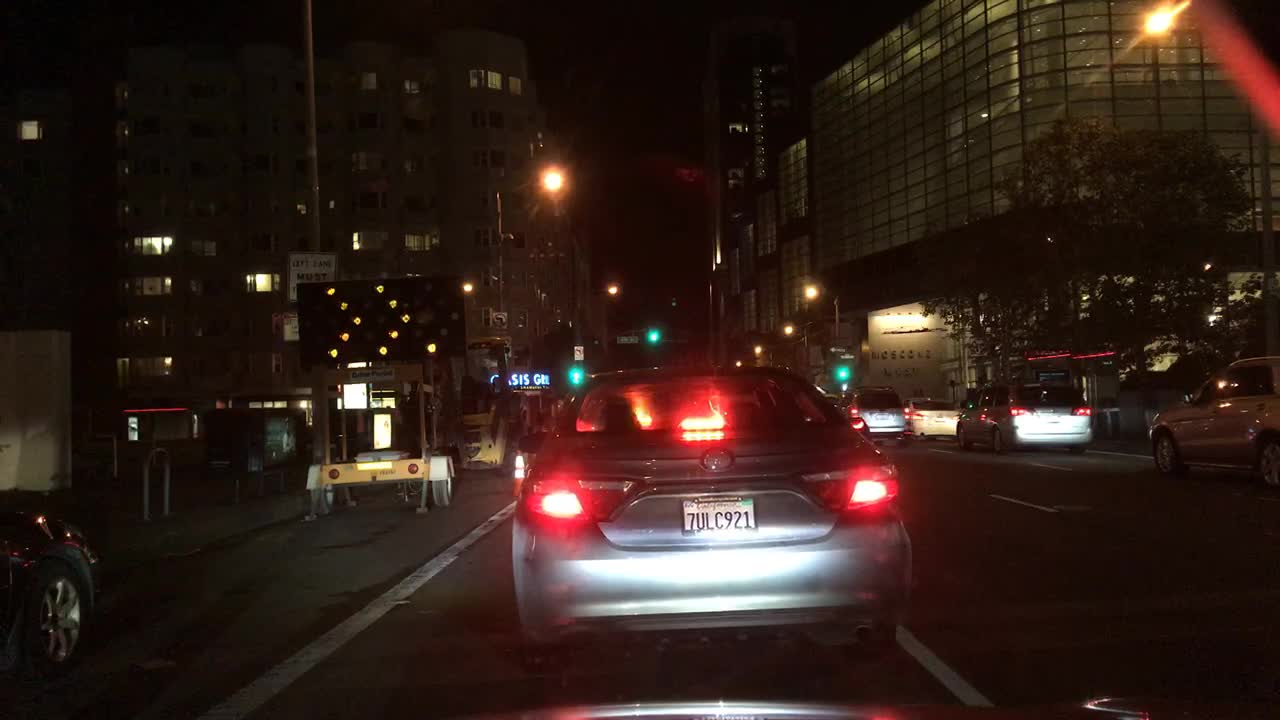car: (510, 362, 910, 667), (1, 482, 101, 685), (1146, 353, 1278, 488), (955, 372, 1094, 455), (838, 383, 904, 437), (904, 392, 958, 438)
traffic light: (646, 327, 658, 348), (573, 369, 580, 387), (841, 368, 848, 381)
traffic sign: (488, 307, 508, 335), (615, 332, 639, 344), (571, 344, 583, 359), (838, 350, 853, 360), (827, 345, 844, 353)
truck: (296, 275, 469, 516), (460, 335, 576, 473)
